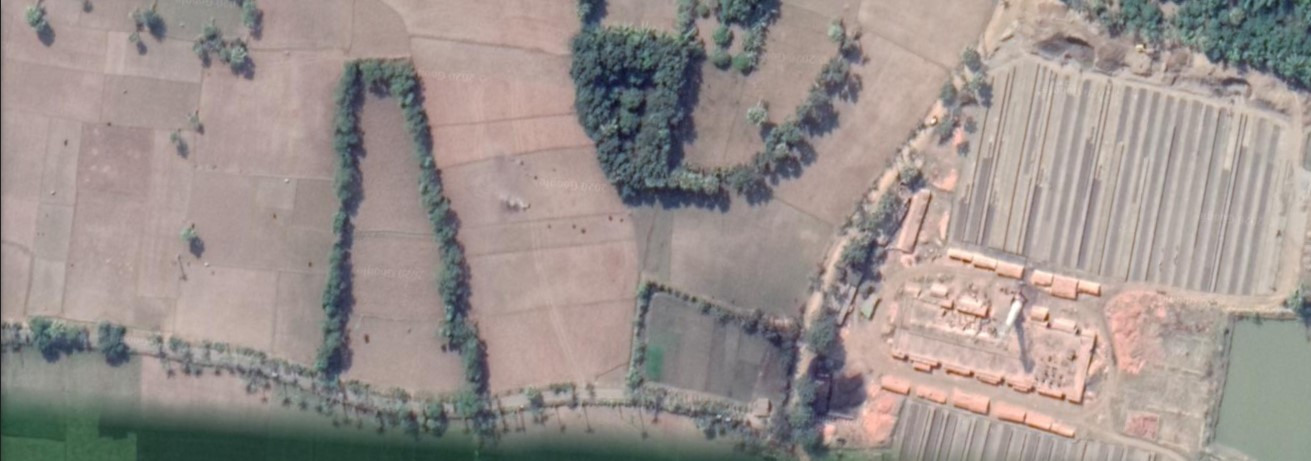kiln: (892, 243, 1111, 416)
